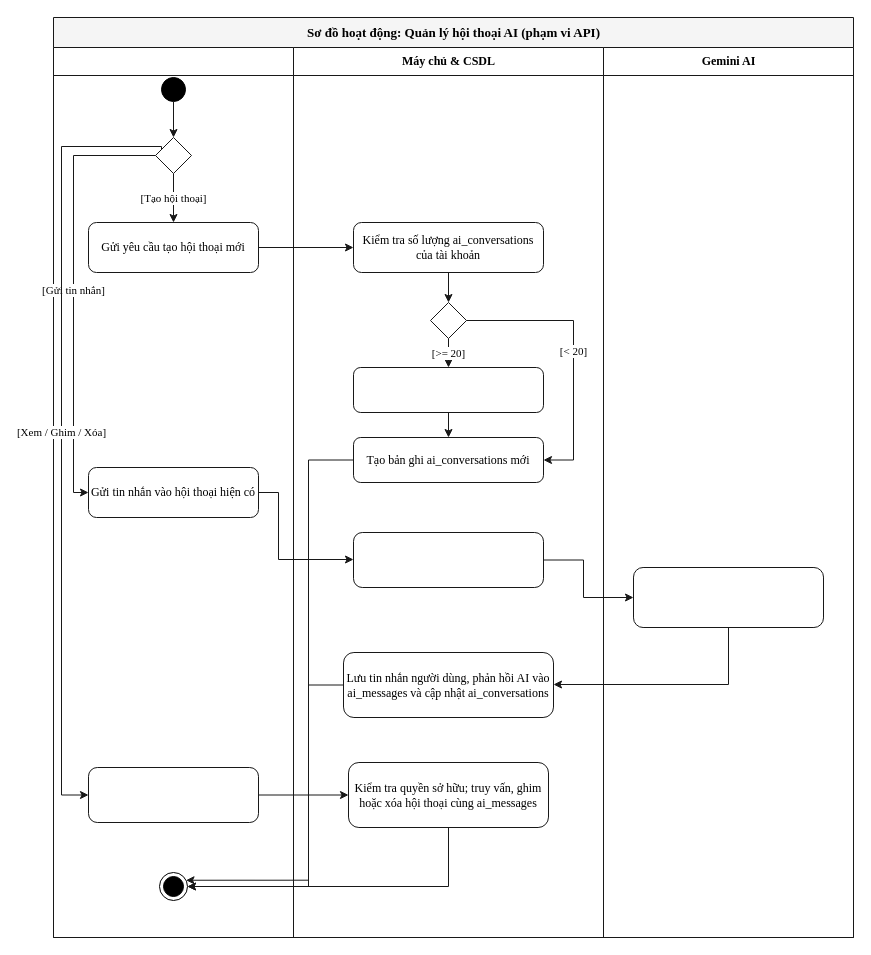
The diagram is 871 pixels wide and 955 high, and some of its shapes have lost their labels. Each missing label, with the box of its shape:
Gửi yêu cầu liệt kê, xem, ghim hoặc xóa hội thoại: (88, 766, 258, 822)
Kiểm tra quyền sở hữu và nội dung tin nhắn hợp lệ: (352, 532, 544, 588)
Sinh phản hồi gợi ý và dữ liệu metadata cho tin nhắn: (632, 566, 824, 628)
Xóa hội thoại không ghim cũ nhất (nếu có): (352, 366, 544, 412)
Ứng viên (API Client): (52, 46, 294, 938)
